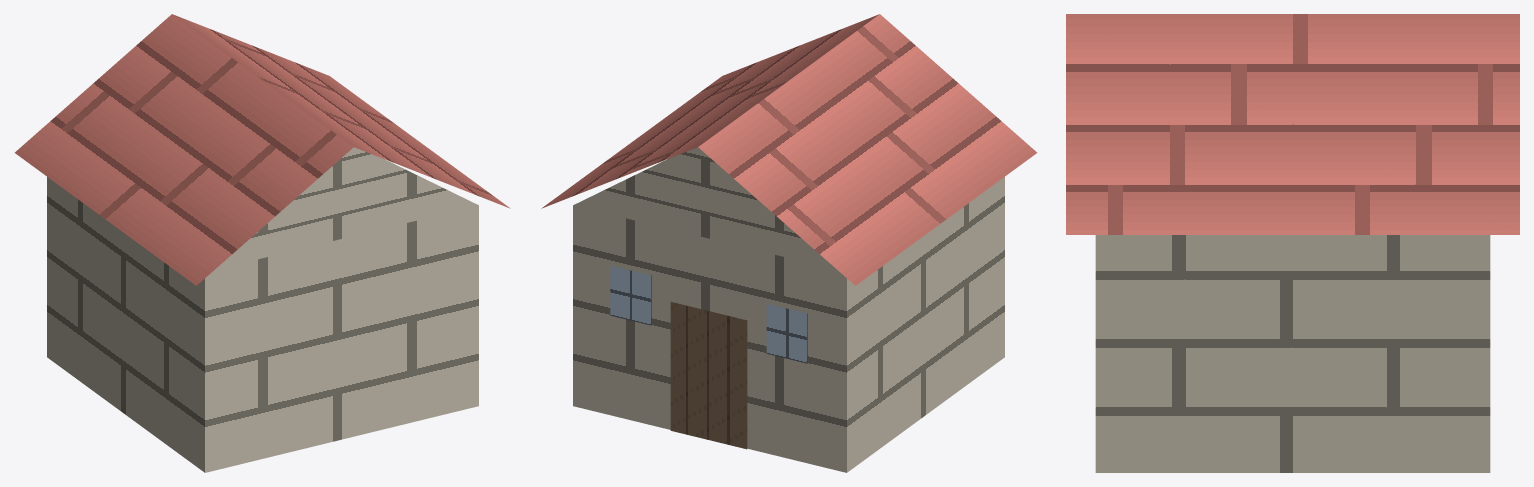
File: house.gltf
3 views of the same model, side by side, from view 1: azimuth 30°, elevation 25°; view 2: azimuth 150°, elevation 25°; view 3: azimuth 270°, elevation 25° (orthographic). The views are drawn at different scales.
Visible parts, largest first — view 1: House; view 2: House; view 3: House.
Boxes of the visible parts, left/top/right/bottom form: House: left=14, top=14, right=510, bottom=472; House: left=541, top=14, right=1037, bottom=472; House: left=1066, top=14, right=1519, bottom=472.
Bounding box in the file's own units: 2.3 × 2.1 × 2.3.
1 material, 1 textured.
